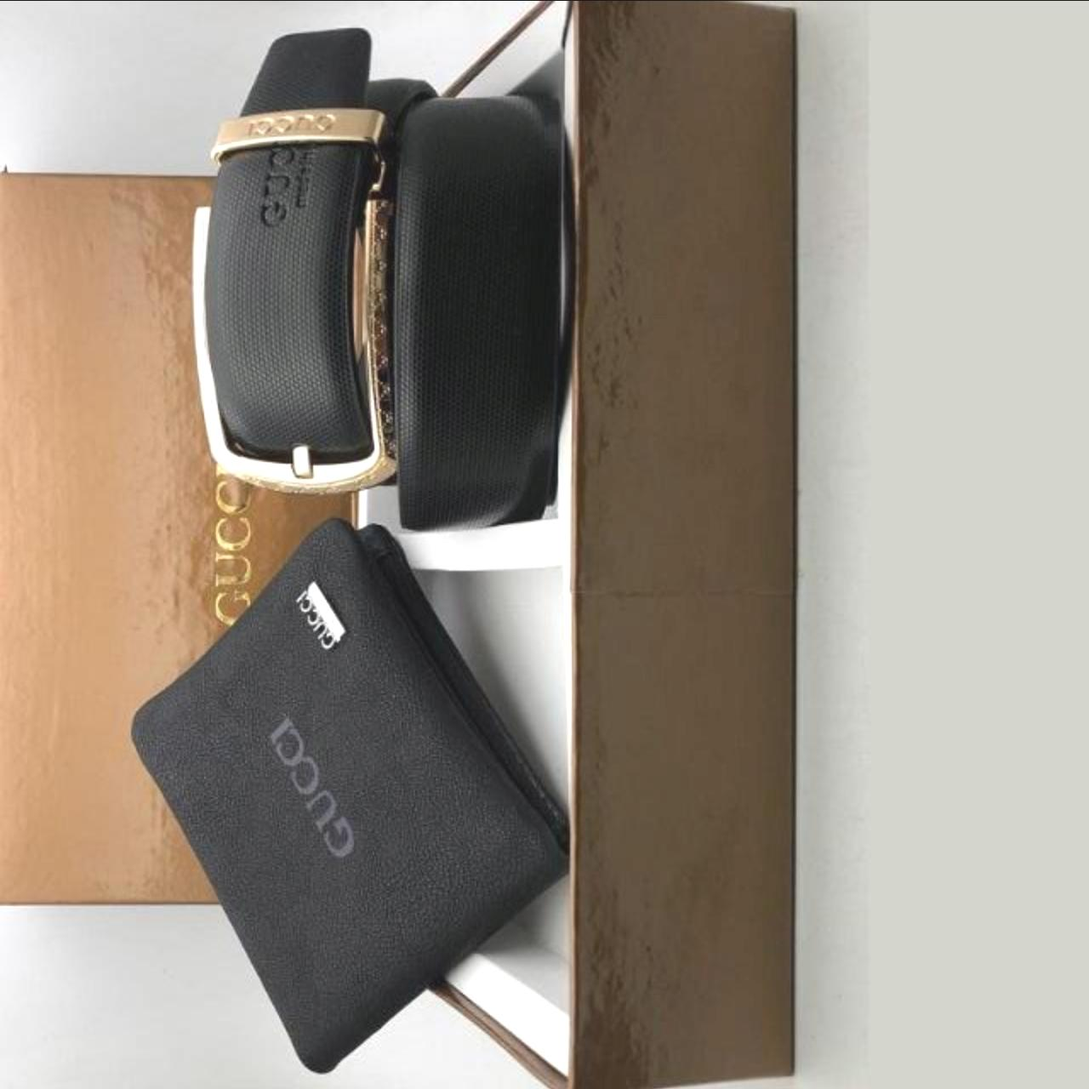wallet: (124, 510, 580, 1080)
